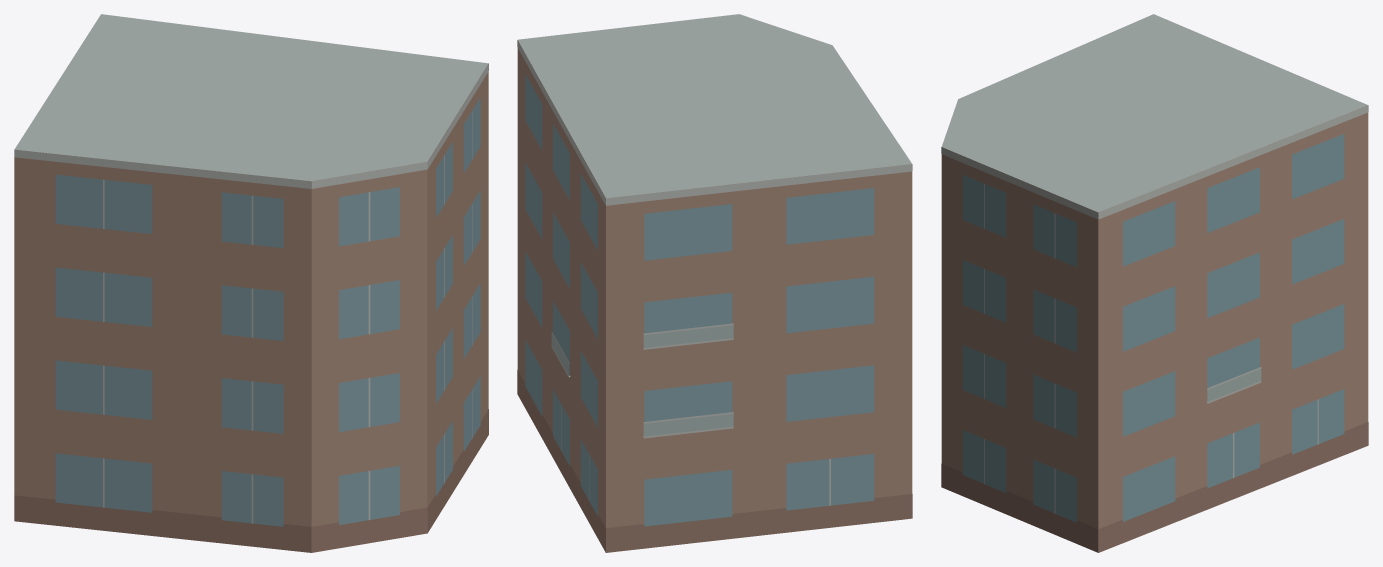
File: survey-upis-32957236.glb
The picture shows the model from 3 angles, left to right: view 1: azimuth 30°, elevation 25°; view 2: azimuth 150°, elevation 25°; view 3: azimuth 270°, elevation 25°; orthographic projection. The views are drawn at different scales.
Parts seen in each view (by area): view 1: survey-upis-32957236.tmp; view 2: survey-upis-32957236.tmp; view 3: survey-upis-32957236.tmp.
Part boxes in pixels (bbox=[...]): survey-upis-32957236.tmp: bbox=[14, 14, 488, 552]; survey-upis-32957236.tmp: bbox=[517, 14, 912, 552]; survey-upis-32957236.tmp: bbox=[941, 14, 1368, 552].
Size of the model in its own units: 14.65 by 11.7 by 13.31.
